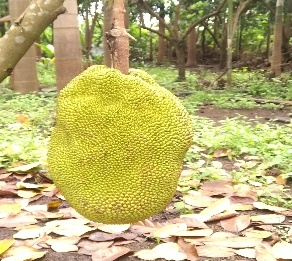Mit: (47, 65, 194, 224)
